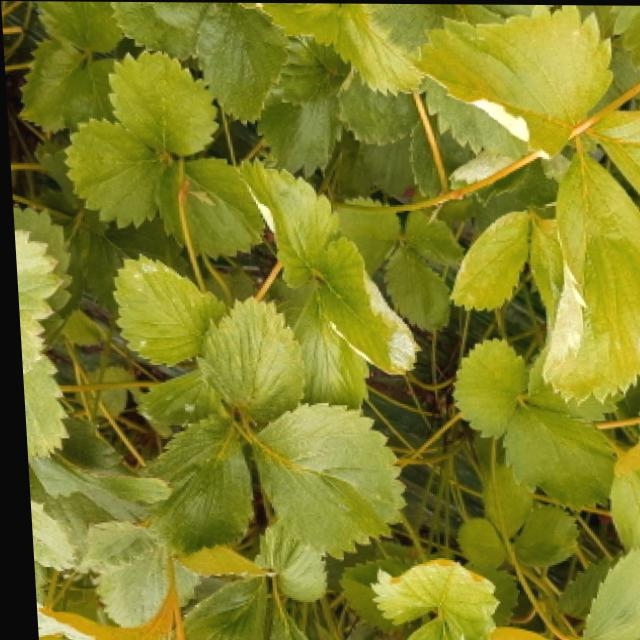Powdery Mildew Leaf: (407, 3, 615, 159), (536, 146, 640, 406), (309, 238, 421, 376), (233, 153, 339, 288), (444, 150, 534, 208), (586, 109, 640, 197)
